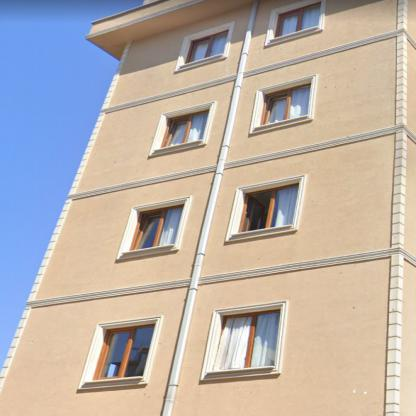window: (213, 309, 281, 370), (95, 324, 154, 378), (238, 184, 298, 232), (130, 204, 184, 250), (261, 84, 310, 124), (160, 110, 208, 147), (275, 2, 319, 36), (186, 30, 228, 63)
